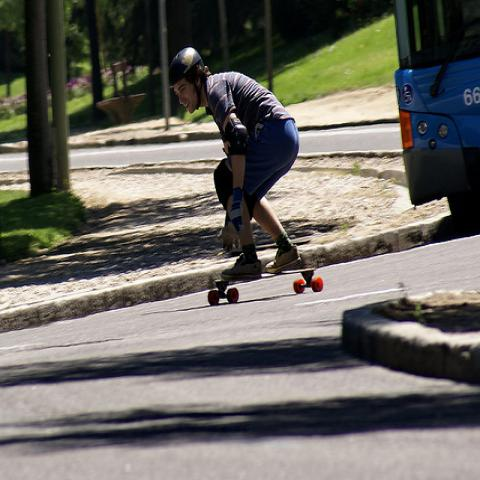bus: (393, 1, 479, 238)
